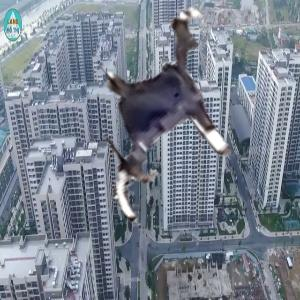drone: (54, 4, 271, 221)
